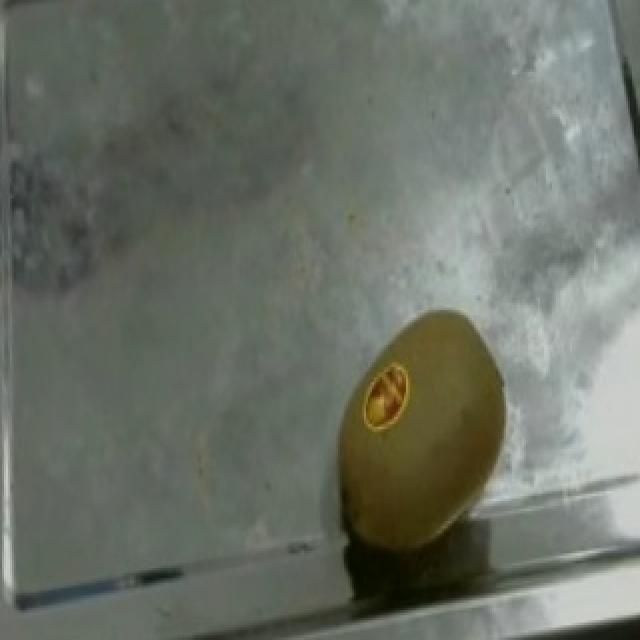Fruit: (314, 295, 536, 573)
